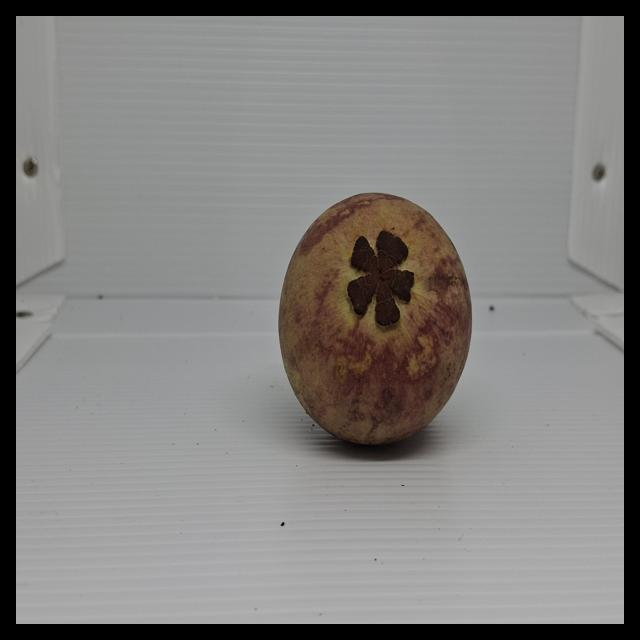mangosteen: (245, 140, 509, 483)
